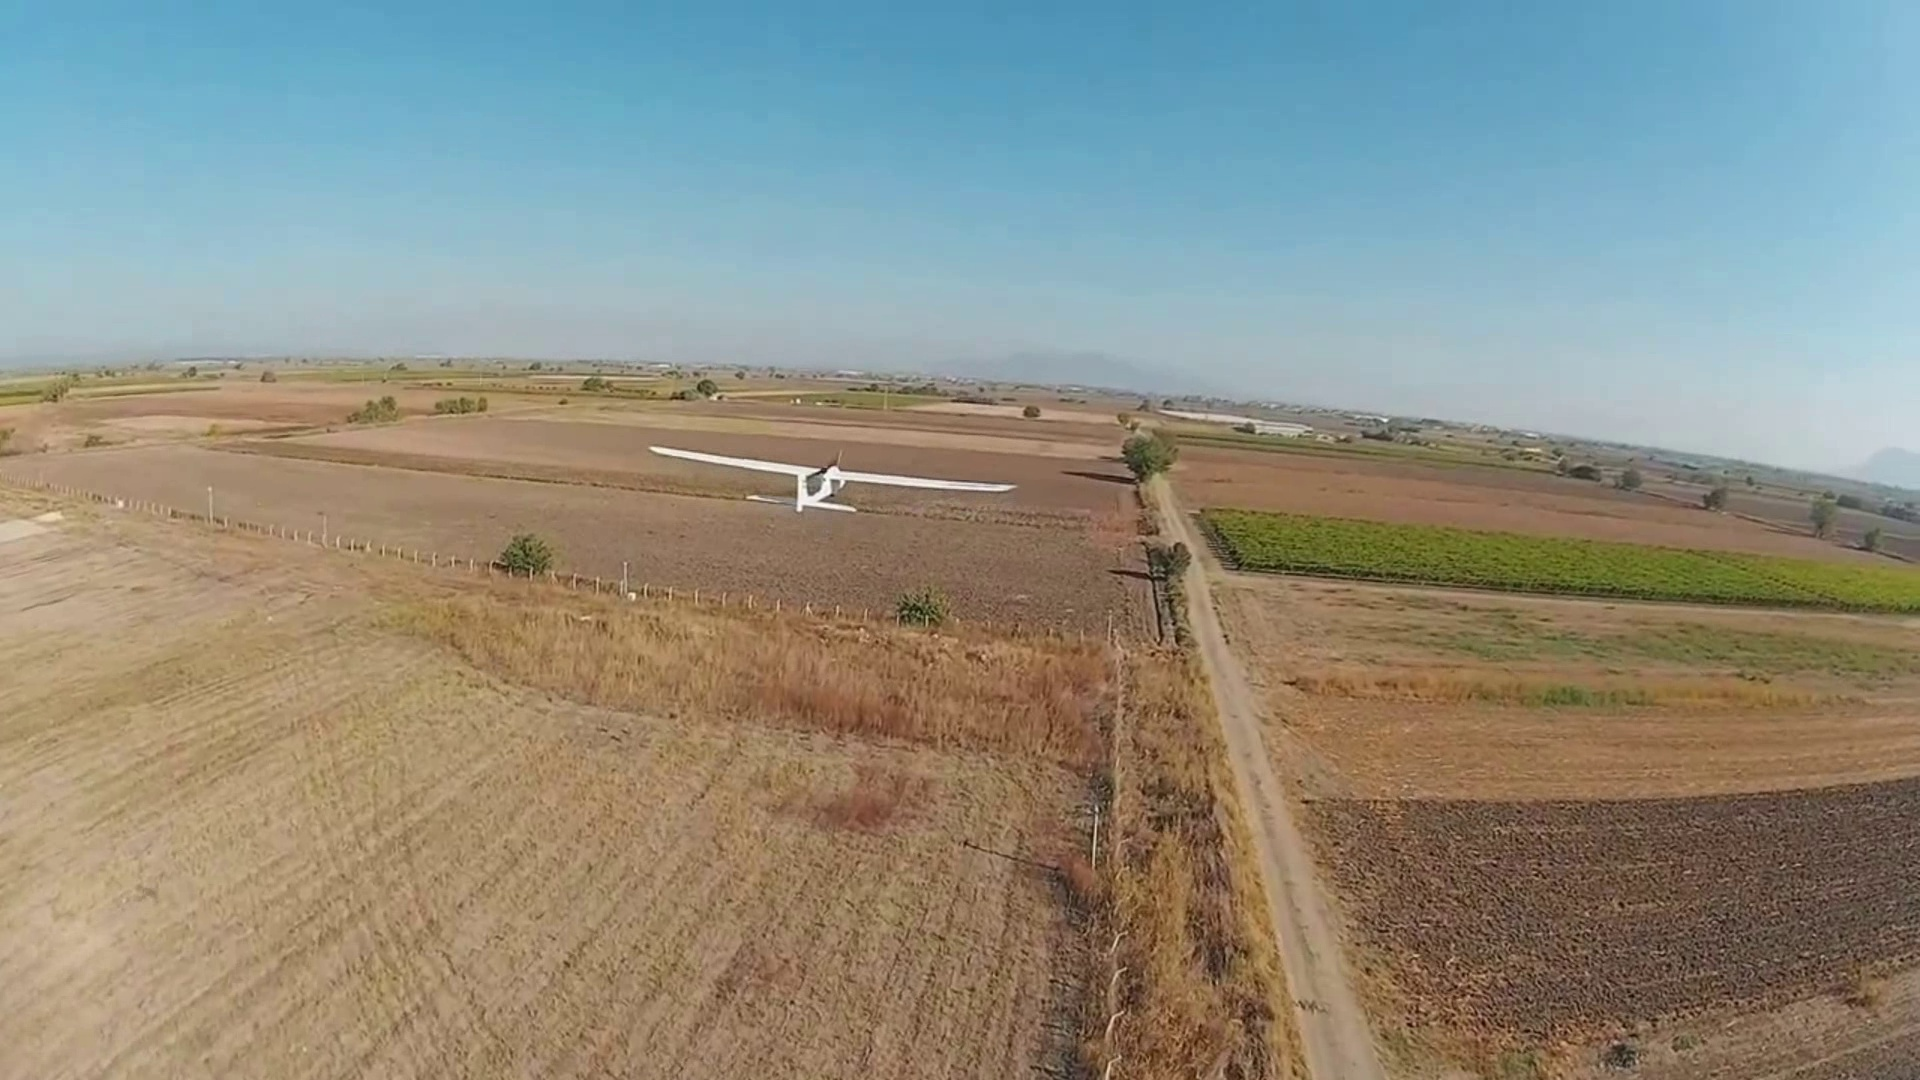airplane: (646, 438, 1015, 512), (647, 442, 848, 512)
